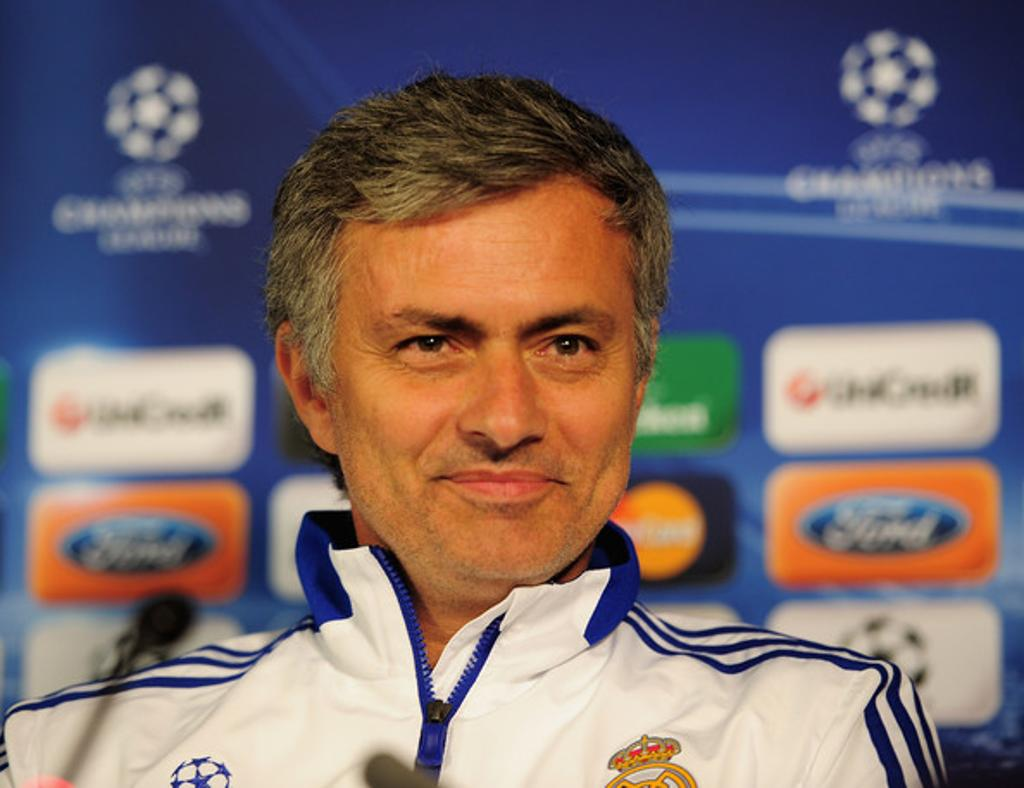face: (334, 182, 634, 582)
